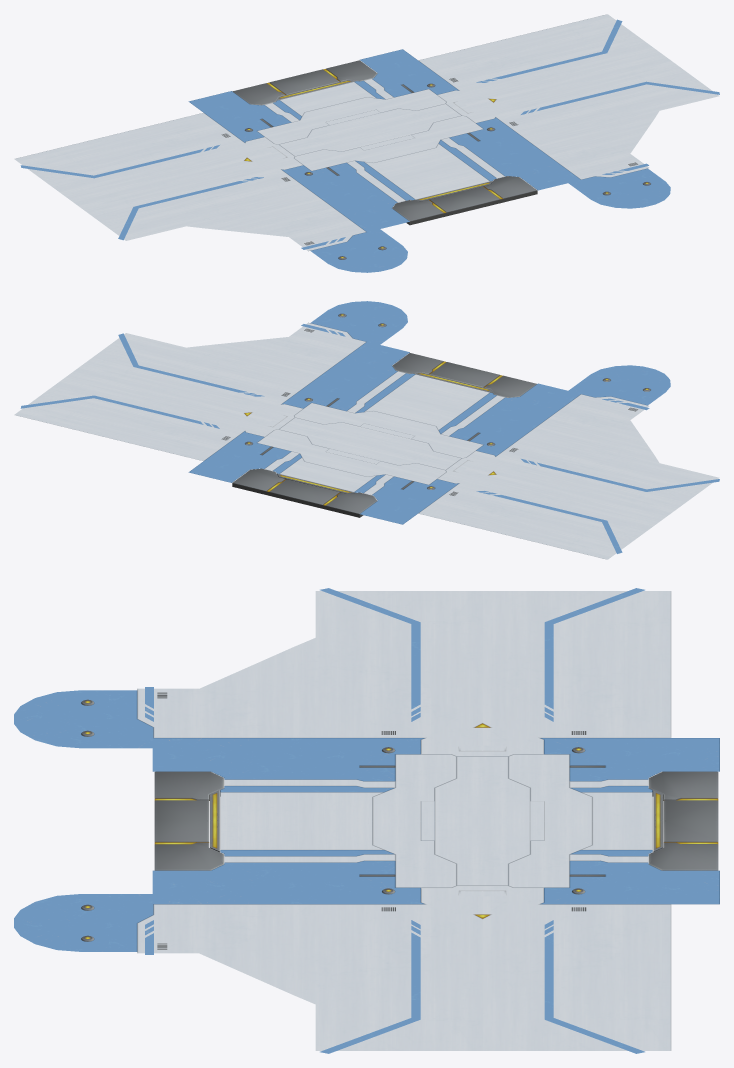
The model's file is mesh_1002_zhucheng_zjz_dibiao001.FBX.
3 renders of one model, top to bottom at view 1: azimuth 30°, elevation 25°; view 2: azimuth 150°, elevation 25°; view 3: azimuth 270°, elevation 25°, orthographic. The views are drawn at different scales.
Visible parts, largest first — view 1: mesh_1002_zhucheng_zjz_dibiao001; view 2: mesh_1002_zhucheng_zjz_dibiao001; view 3: mesh_1002_zhucheng_zjz_dibiao001.
Part boxes in pixels (<box>): mesh_1002_zhucheng_zjz_dibiao001: <box>14,14,719,272</box>; mesh_1002_zhucheng_zjz_dibiao001: <box>14,301,719,559</box>; mesh_1002_zhucheng_zjz_dibiao001: <box>14,588,719,1053</box>.
Size of the model in its own units: 3813 by 28.84 by 2442.
